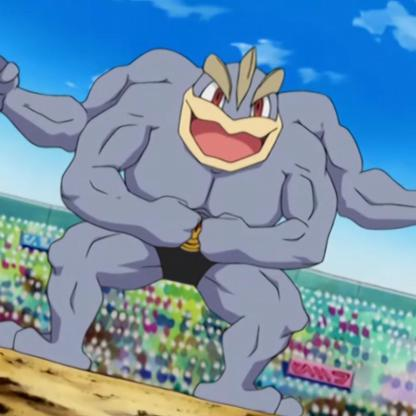Machamp: (1, 20, 416, 413)
